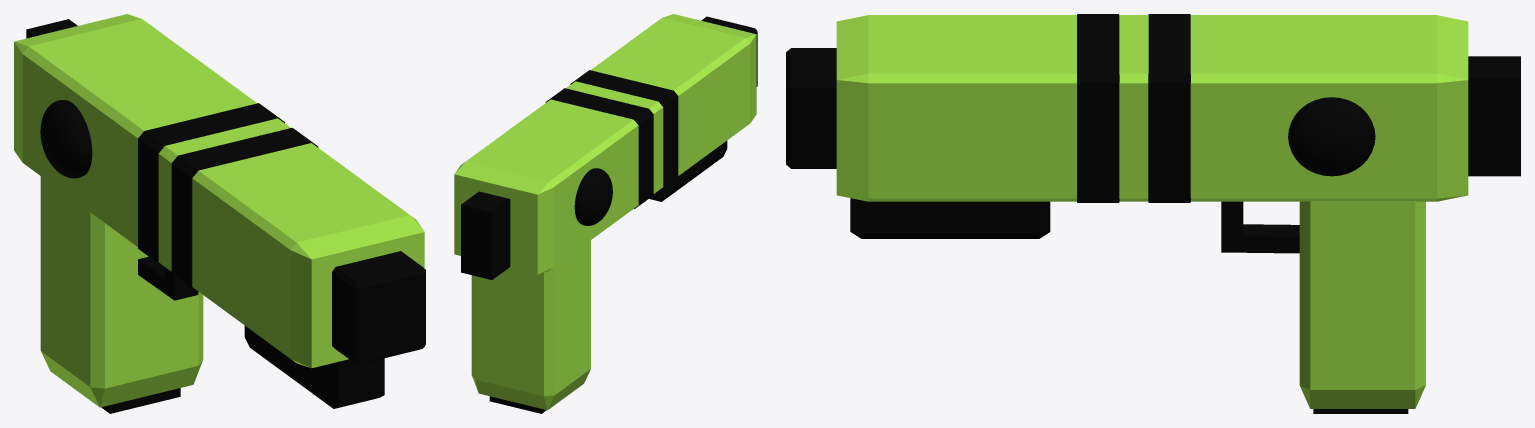
The model's file is gun3.fbx.
3 renders of one model, left to right at view 1: azimuth 30°, elevation 25°; view 2: azimuth 150°, elevation 25°; view 3: azimuth 270°, elevation 25°, orthographic. The views are drawn at different scales.
Visible parts, largest first — view 1: Cube.009, Cube.011, Cube.010, Cube.017, Cube.016, Cube.013, Sphere.003, Cube.014, Cube.015, Cube.012; view 2: Cube.009, Cube.011, Cube.012, Cube.017, Cube.016, Sphere.003, Cube.013, Cube.010, Cube.015; view 3: Cube.009, Cube.011, Cube.016, Cube.017, Cube.013, Cube.012, Cube.010, Sphere.002, Cube.014.
Boxes of the visible parts, bbox=[...] form: Cube.009: bbox=[14, 14, 424, 368]; Cube.011: bbox=[40, 176, 203, 407]; Cube.010: bbox=[332, 251, 425, 364]; Cube.017: bbox=[171, 127, 318, 291]; Cube.016: bbox=[138, 103, 284, 267]; Cube.013: bbox=[244, 325, 384, 408]; Sphere.003: bbox=[40, 100, 92, 178]; Cube.014: bbox=[138, 256, 198, 300]; Cube.015: bbox=[101, 388, 180, 413]; Cube.012: bbox=[26, 19, 77, 38]; Cube.009: bbox=[454, 14, 756, 274]; Cube.011: bbox=[471, 240, 590, 410]; Cube.012: bbox=[461, 191, 510, 279]; Cube.017: bbox=[570, 70, 678, 190]; Cube.016: bbox=[545, 88, 653, 208]; Sphere.003: bbox=[574, 168, 612, 225]; Cube.013: bbox=[649, 140, 727, 201]; Cube.010: bbox=[701, 16, 757, 86]; Cube.015: bbox=[489, 396, 546, 413]; Cube.009: bbox=[836, 15, 1468, 201]; Cube.011: bbox=[1299, 201, 1425, 408]; Cube.016: bbox=[1148, 14, 1190, 202]; Cube.017: bbox=[1077, 14, 1119, 202]; Cube.013: bbox=[850, 198, 1050, 238]; Cube.012: bbox=[1468, 56, 1520, 176]; Cube.010: bbox=[786, 48, 836, 168]; Sphere.002: bbox=[1288, 97, 1375, 176]; Cube.014: bbox=[1221, 201, 1299, 253].
Size of the model in its own units: 150 by 273 by 518.
